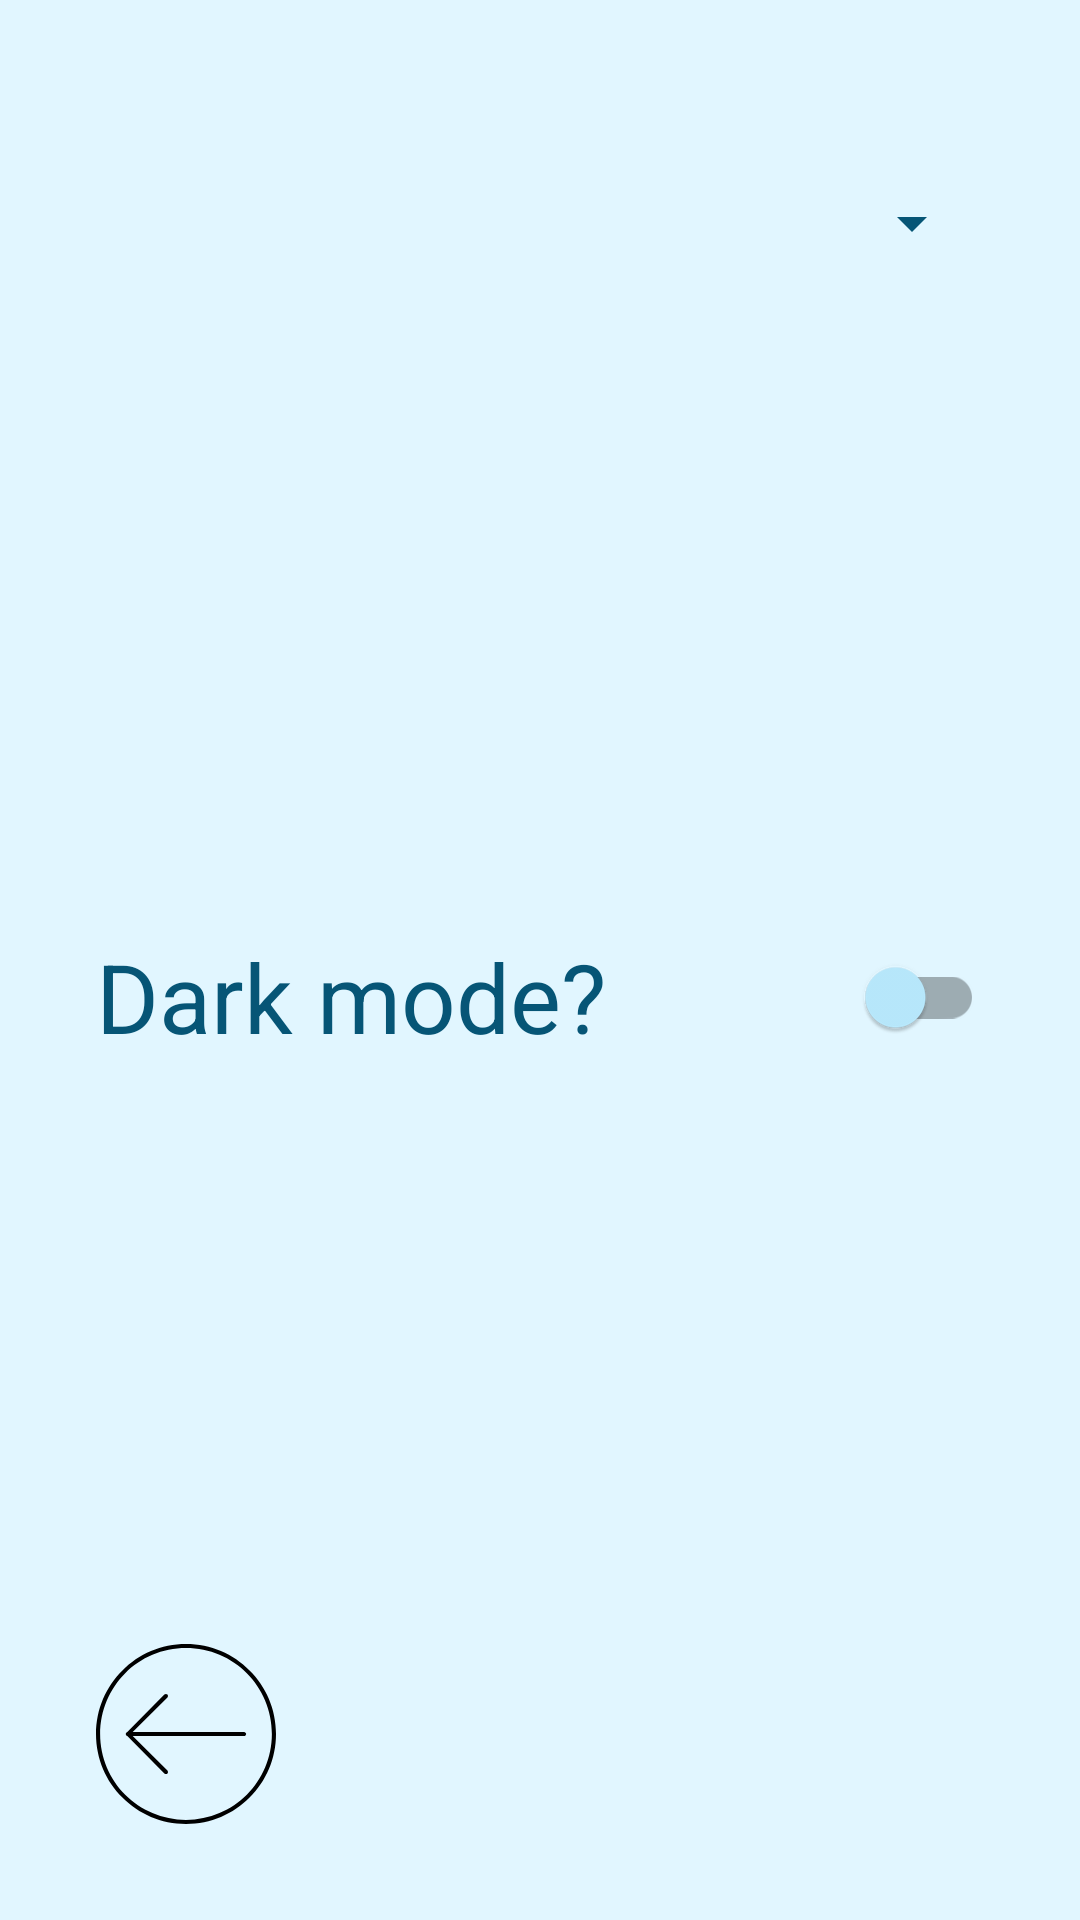

Point at icon controls on the screen. Image size 1080×1920, points as (x,y).
arrowback: (186,1734)
